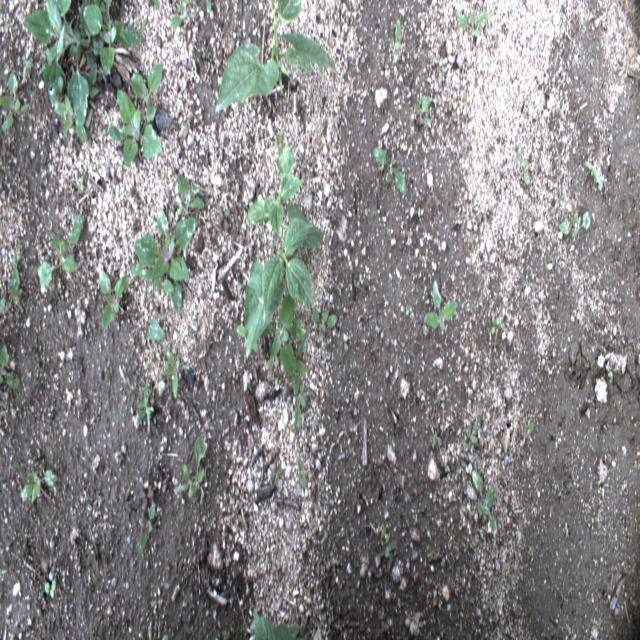crop: (213, 0, 337, 107), (243, 204, 323, 363), (246, 143, 305, 239), (253, 608, 302, 640)
weed: (22, 0, 144, 145), (132, 204, 200, 316), (108, 62, 166, 174), (268, 295, 311, 399), (35, 210, 84, 290), (178, 432, 212, 508), (422, 276, 459, 336), (373, 141, 410, 200), (99, 266, 130, 333), (19, 464, 58, 514), (472, 471, 501, 538), (1, 69, 28, 136), (162, 344, 190, 404), (138, 480, 160, 551), (175, 172, 208, 213), (1, 342, 27, 391), (559, 205, 591, 244), (457, 6, 491, 40), (7, 250, 27, 306), (312, 298, 339, 339), (133, 382, 154, 426), (388, 12, 403, 73), (414, 88, 434, 132), (167, 1, 194, 30), (585, 157, 606, 193), (39, 568, 61, 600), (294, 396, 310, 440), (235, 325, 260, 353), (144, 314, 168, 343), (464, 410, 481, 450), (518, 146, 534, 187), (381, 528, 399, 564), (266, 458, 284, 489), (215, 202, 232, 234), (522, 406, 538, 438), (22, 50, 35, 86), (296, 453, 306, 496), (488, 312, 502, 340), (430, 418, 440, 453), (465, 226, 476, 249), (405, 300, 415, 322), (462, 94, 469, 113)
